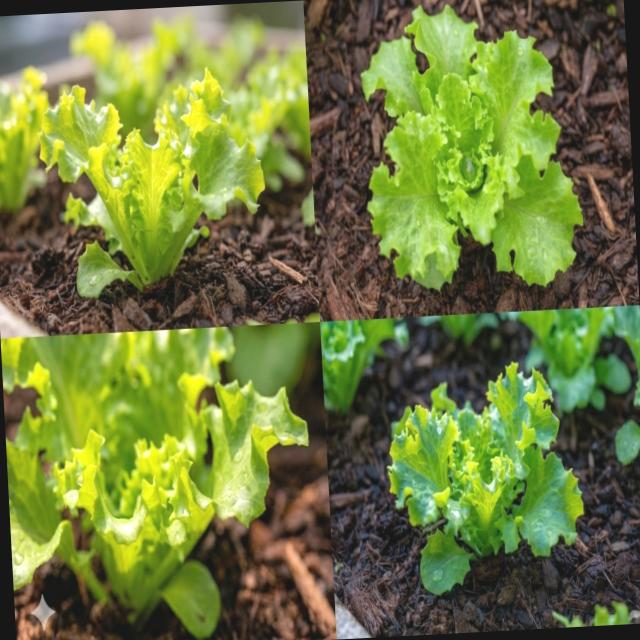inmadura: (362, 7, 583, 289), (40, 69, 264, 297), (389, 363, 583, 595)
